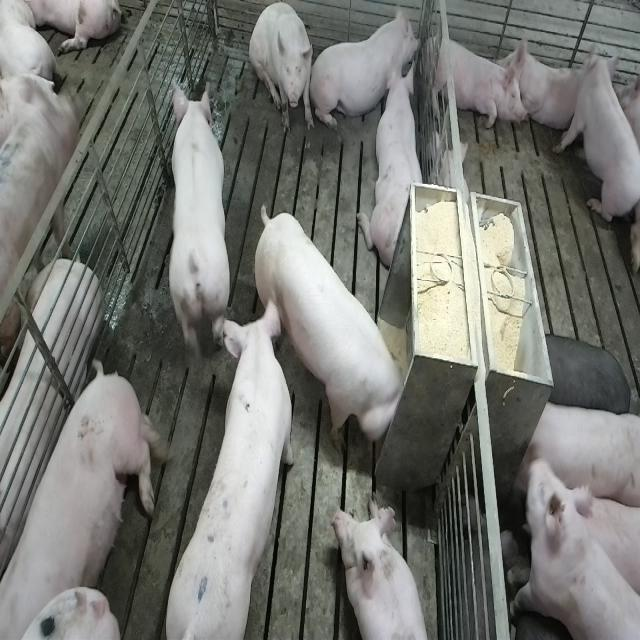Feeding: (256, 201, 414, 460)
Lateral_lying: (4, 364, 177, 640), (0, 259, 103, 582)
Sitting: (249, 4, 315, 138)
Standing: (158, 292, 296, 635), (0, 73, 78, 379), (519, 459, 638, 640), (164, 81, 232, 368), (514, 396, 638, 528)
Sternal_lying: (557, 46, 639, 229), (336, 493, 436, 638), (315, 3, 422, 128), (364, 58, 426, 268), (424, 31, 518, 134), (499, 30, 584, 141)
